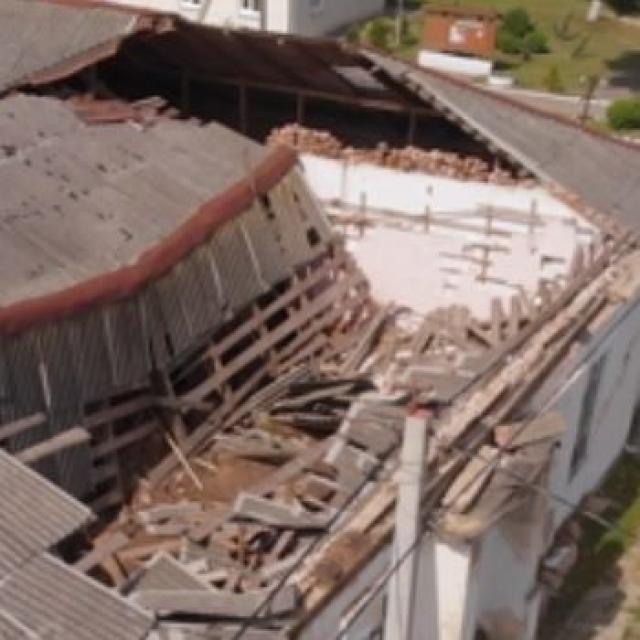collapsed_building: (6, 33, 634, 583)
